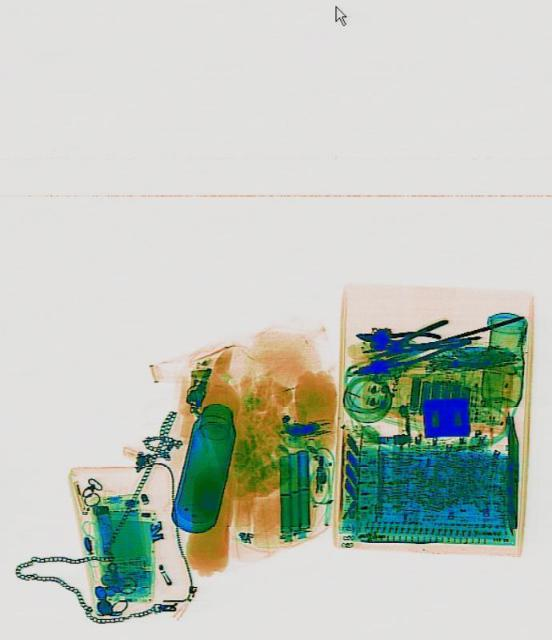Pliers: (353, 320, 440, 356)
